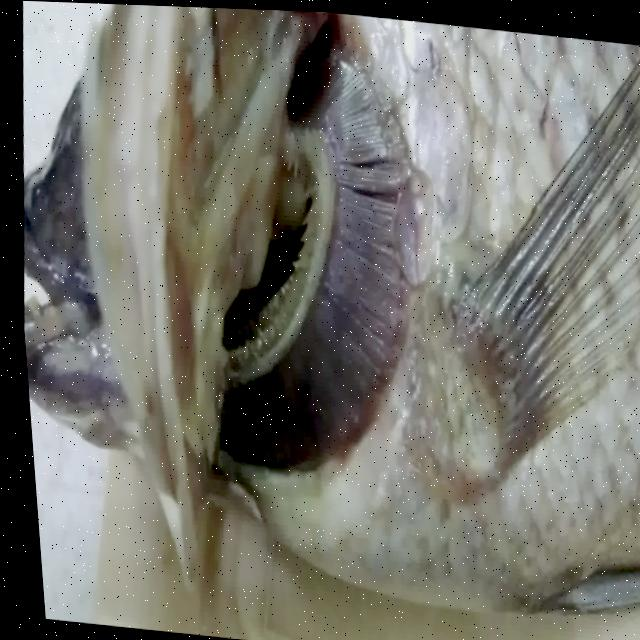Non-Fresh: (191, 53, 450, 497)
